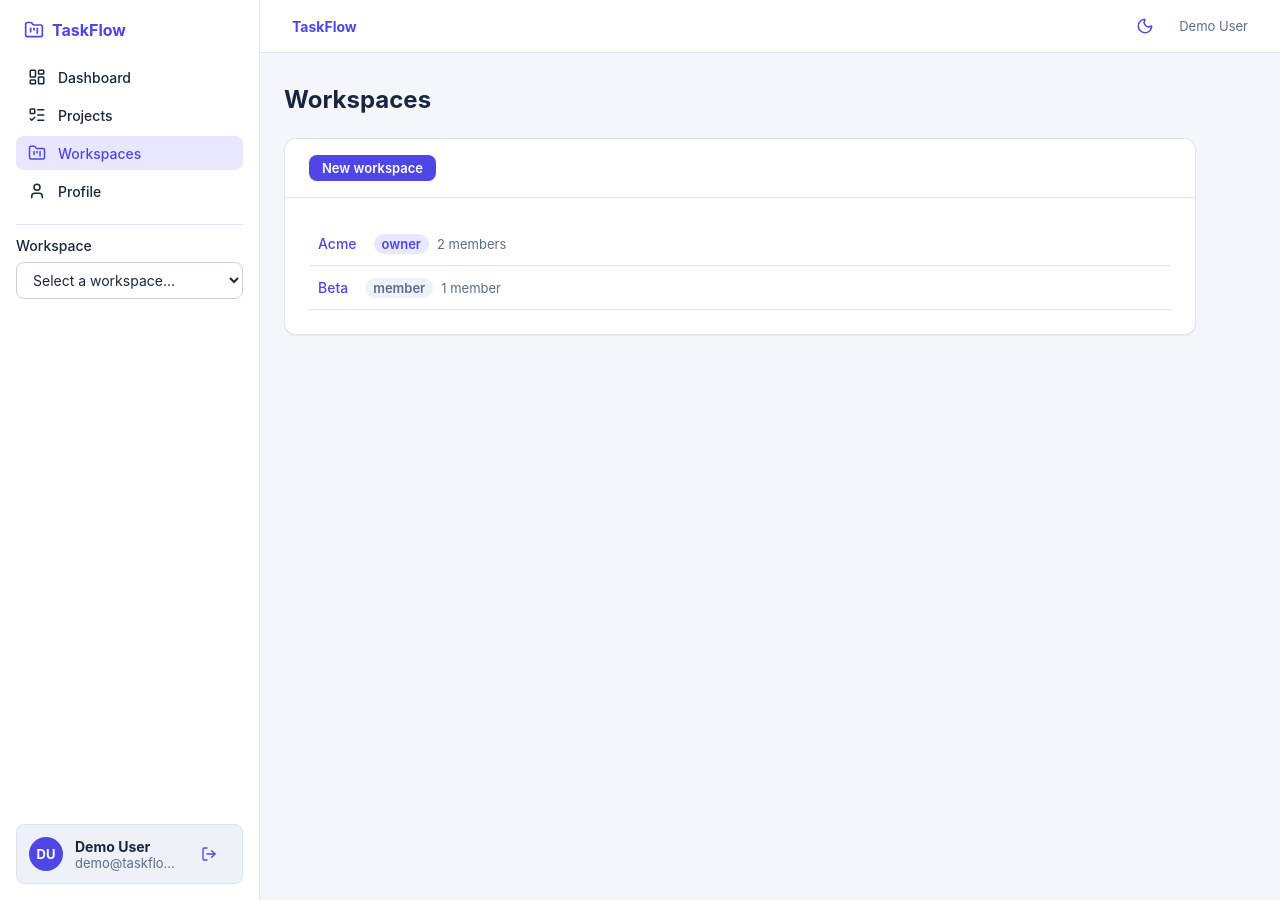
Test: workspace-pane — "Manage drawer shows permitted actions per role" (@w1) › owner sees rename, delete, invite and remove only for non-owner members
The image size is (1280, 900).
Step 1. Click the button "Acme" → (337, 244), box 309,230 -> 366,257
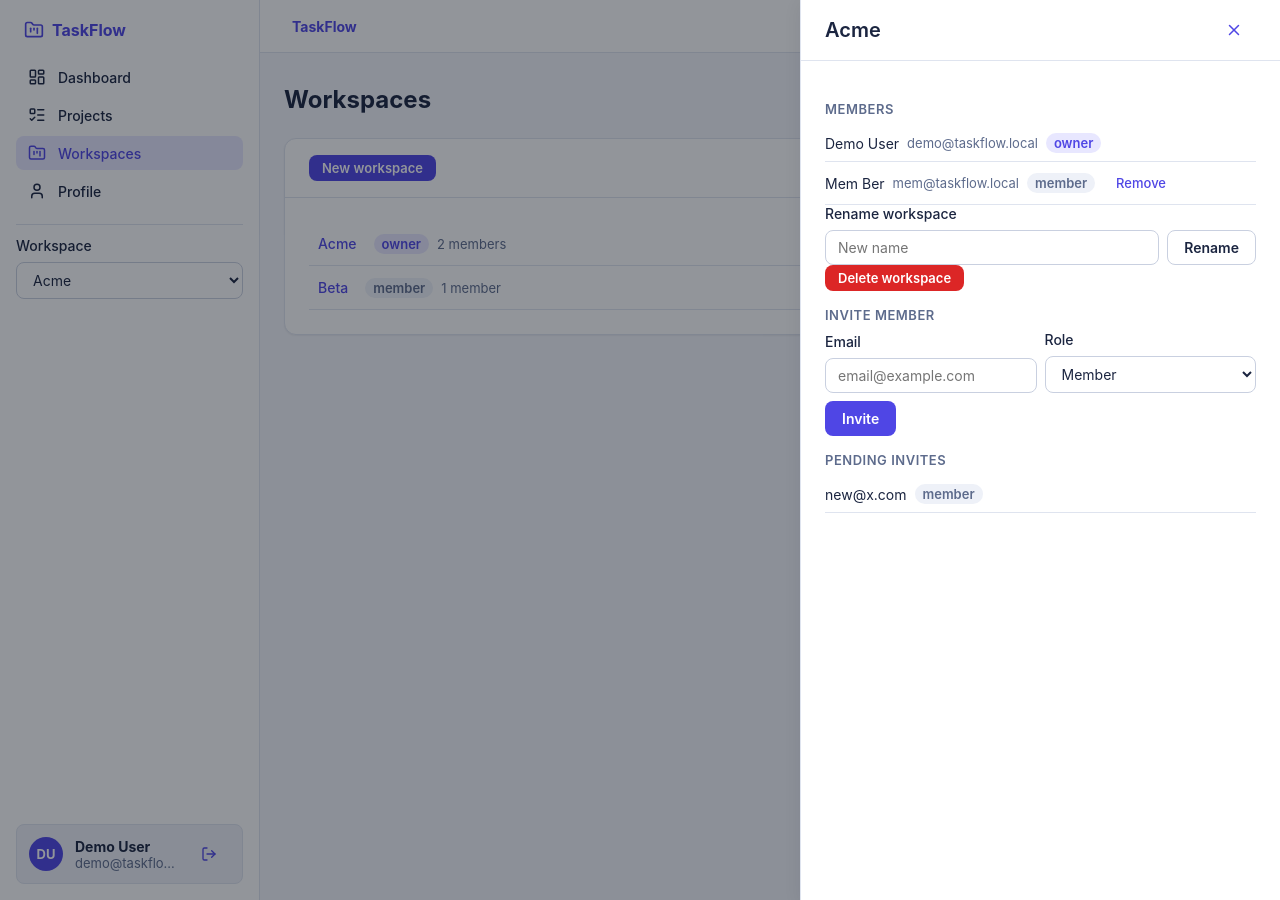
Expected: the list item "Mem Ber" is shown, 825,174 -> 885,192
Expected: the button "Rename" is shown, 1167,230 -> 1256,265
Expected: the button "Delete workspace" is shown, 825,265 -> 964,291
